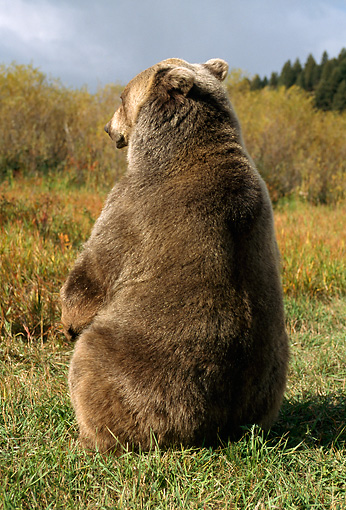bear: (62, 55, 293, 456)
